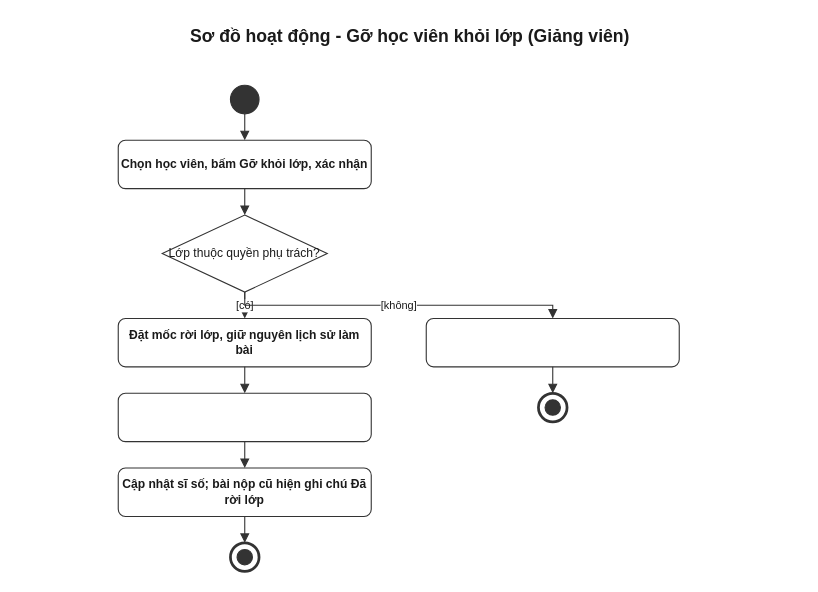
Image size: 818x592. Some labels were removed from this diagram. Here are the shapes that lost their labels. From the top down, the centre of each, then its label:
At point (552, 342): "Từ chối ở tầng ứng dụng".
At point (244, 417): "Ghi Nhật ký hệ thống và phát StudentRemovedFromClass".
